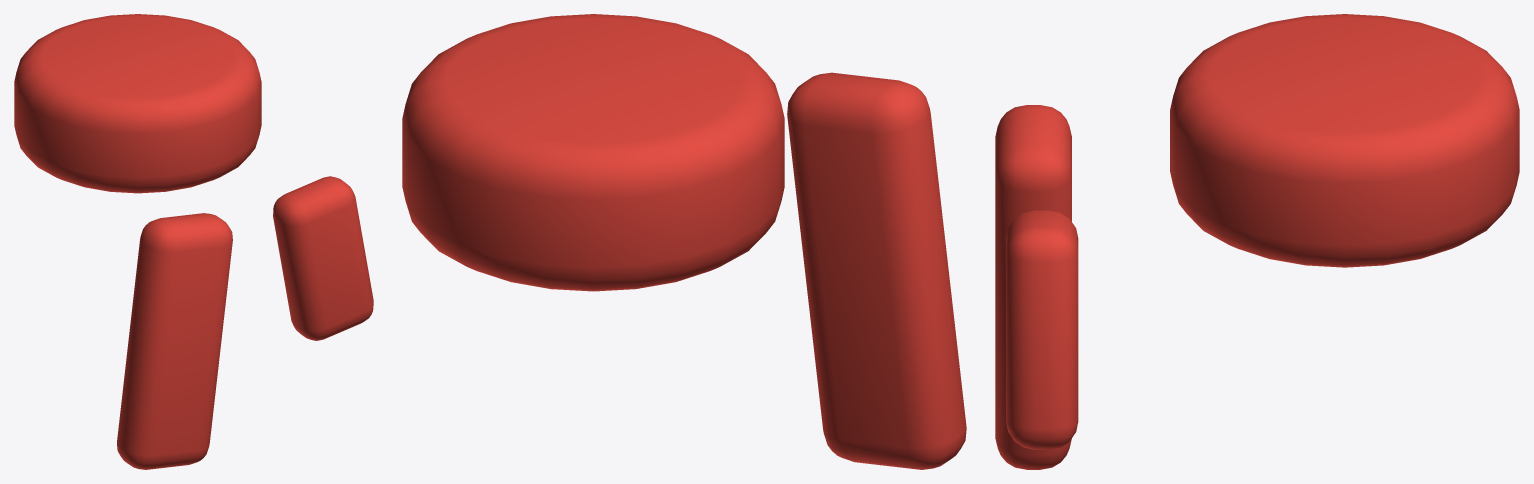
The model's file is part_scarf.glb.
3 views of the same model, side by side, from view 1: azimuth 30°, elevation 25°; view 2: azimuth 150°, elevation 25°; view 3: azimuth 270°, elevation 25° (orthographic). The views are drawn at different scales.
Visible parts, largest first — view 1: Scarf_Wrap, Scarf_TailL, Scarf_TailR; view 2: Scarf_Wrap, Scarf_TailL; view 3: Scarf_Wrap, Scarf_TailR, Scarf_TailL.
Boxes of the visible parts, bbox=[...] form: Scarf_Wrap: bbox=[14, 14, 261, 193]; Scarf_TailL: bbox=[117, 213, 232, 469]; Scarf_TailR: bbox=[273, 176, 373, 340]; Scarf_Wrap: bbox=[402, 14, 784, 291]; Scarf_TailL: bbox=[787, 72, 966, 469]; Scarf_Wrap: bbox=[1170, 14, 1519, 267]; Scarf_TailR: bbox=[1006, 210, 1078, 449]; Scarf_TailL: bbox=[995, 105, 1071, 469].
Size of the model in its own units: 0.4781 by 0.5635 by 0.615.
